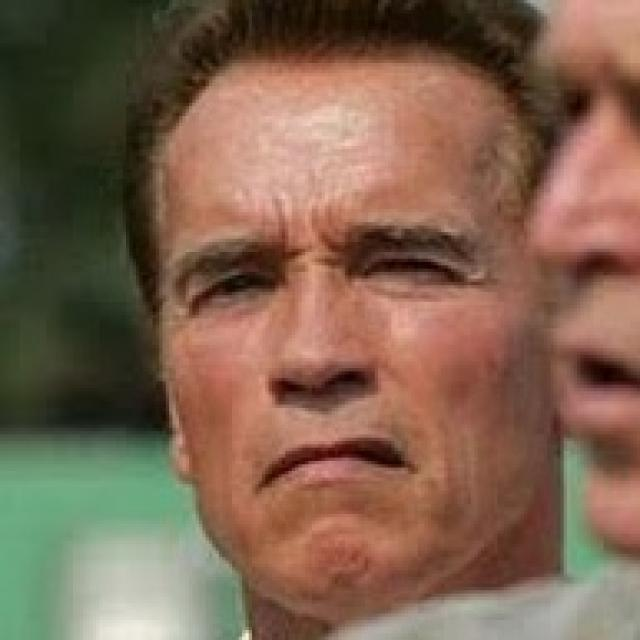Depress: (154, 61, 550, 625)
